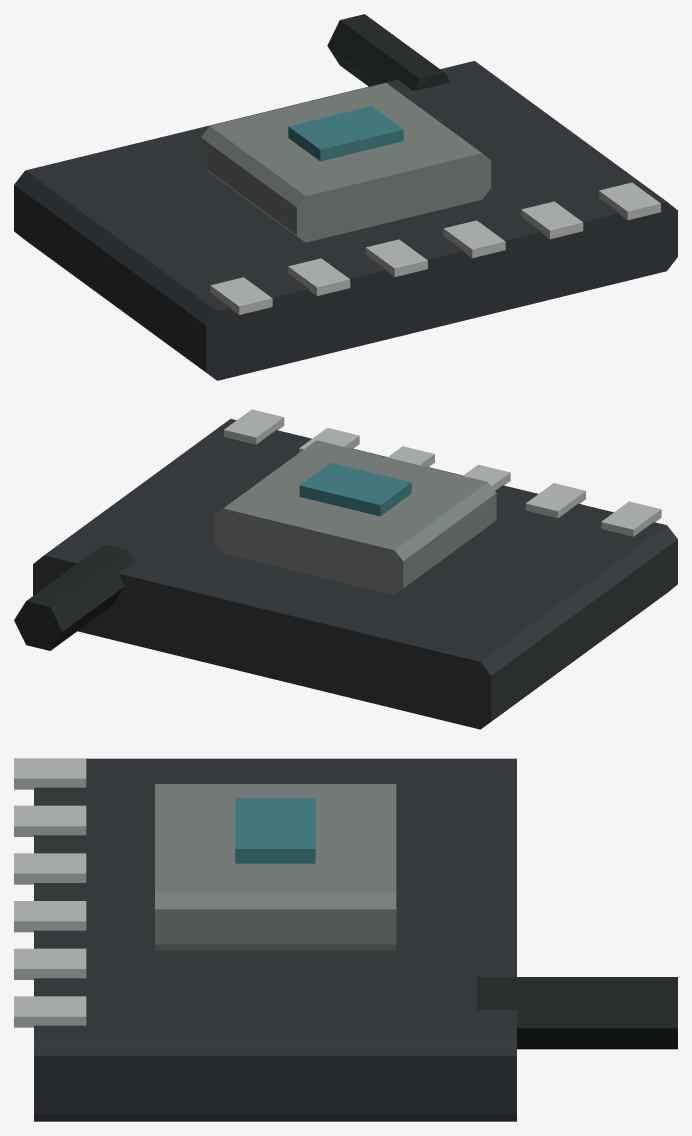
File: NeuralCoprocessor.gltf
3 views of the same model, one above another, from view 1: azimuth 30°, elevation 25°; view 2: azimuth 150°, elevation 25°; view 3: azimuth 270°, elevation 25° (orthographic). The views are drawn at different scales.
Parts seen in each view (by area): view 1: NeuralCoprocessor; view 2: NeuralCoprocessor; view 3: NeuralCoprocessor.
Boxes of the visible parts, x1,y1,x2,y2 form: NeuralCoprocessor: (14,14,677,380); NeuralCoprocessor: (14,409,677,729); NeuralCoprocessor: (14,758,677,1121).
Size of the model in its own units: 0.17 by 0.044 by 0.165.
